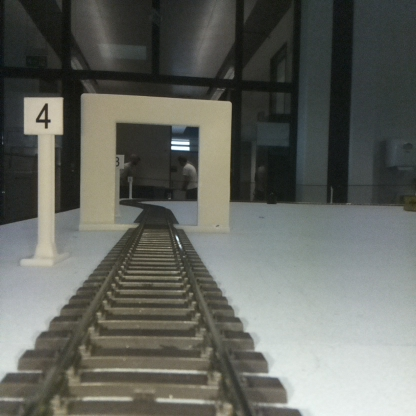white-info-3: (115, 153, 123, 216)
white-info-4: (24, 98, 62, 264)
